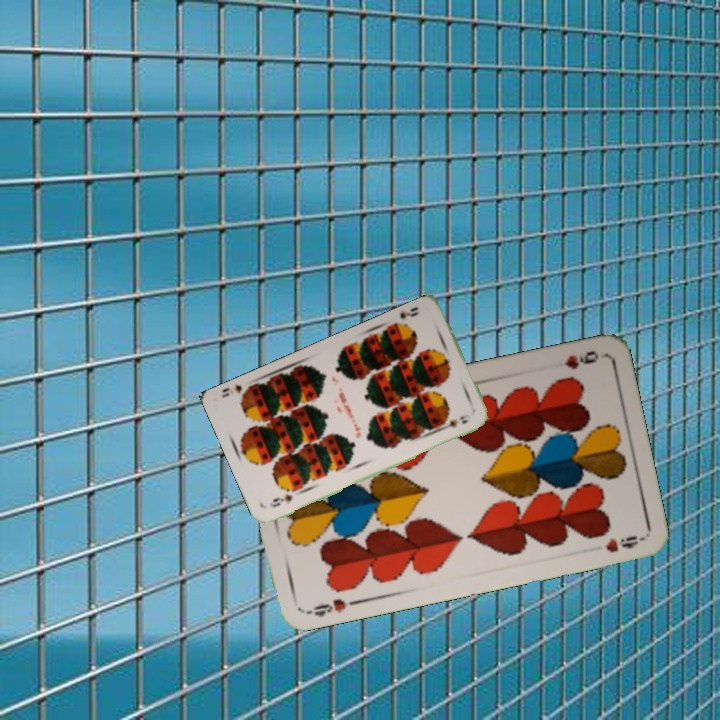H9: (302, 595, 361, 619), (561, 346, 602, 372)
S9: (390, 303, 421, 331), (265, 490, 295, 510)
